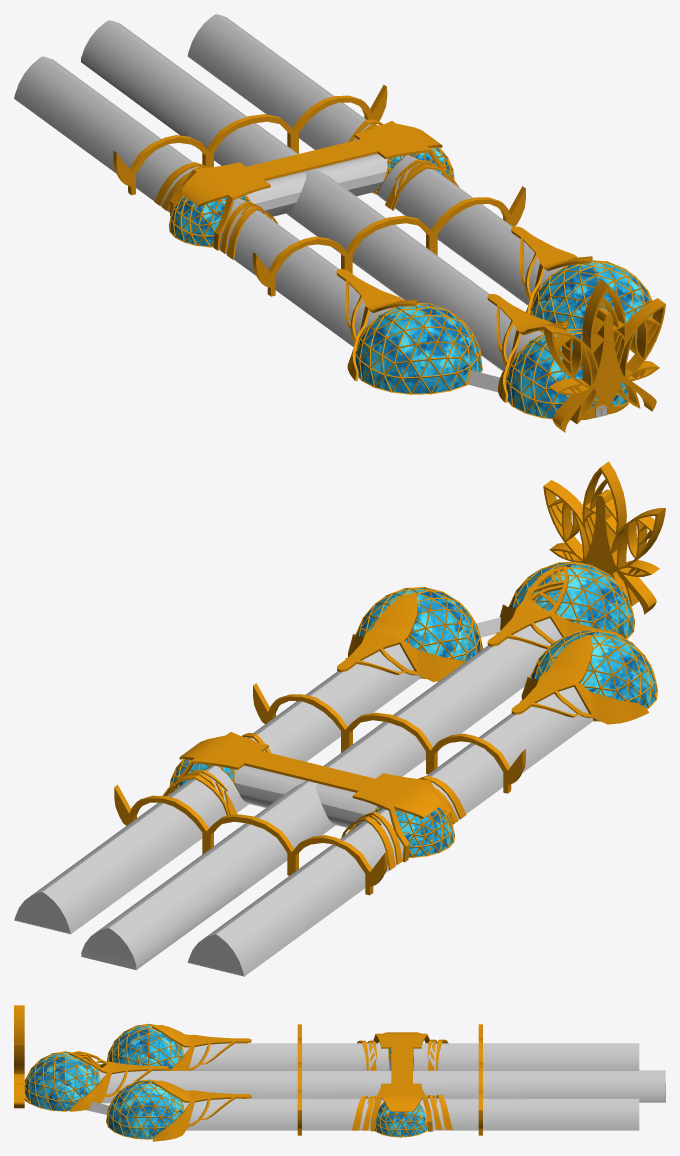
Rendered from SM_Greenhouse2.fbx.
The picture shows the model from 3 angles, top to bottom: view 1: azimuth 30°, elevation 25°; view 2: azimuth 150°, elevation 25°; view 3: azimuth 270°, elevation 25°; orthographic projection. The views are drawn at different scales.
Visible parts, largest first — view 1: SM_GreenHouseGold_LOD0, SM_GreenHouseSphereL_LOD0, SM_GreenHousePasC08_LOD0, SM_GreenHousePasC04_LOD0, SM_GreenHousePasL08_LOD0, SM_GreenHousePasR08_LOD0, SM_GreenHousePasR04_LOD0, SM_GreenHousePasR02_LOD0, SM_GreenHouseSphereR_LOD0, SM_GreenHousePasL02_LOD0, SM_GreenHousePasC06_LOD0, SM_GreenHousePasR06_LOD0 (+10 smaller); view 2: SM_GreenHouseGold_LOD0, SM_GreenHousePasC08_LOD0, SM_GreenHousePasR08_LOD0, SM_GreenHousePasL08_LOD0, SM_GreenHousePasC06_LOD0, SM_GreenHousePasC04_LOD0, SM_GreenHousePasR06_LOD0, SM_GreenHousePasR02_LOD0, SM_GreenHousePasL02_LOD0, SM_GreenHouseSphereC_LOD0, SM_GreenHouseSphereL_LOD0, SM_GreenHousePasL06_LOD0 (+11 smaller); view 3: SM_GreenHouseGold_LOD0, SM_GreenHousePasC07_LOD0, SM_GreenHousePasR07_LOD0, SM_GreenHousePasC03_LOD0, SM_GreenHousePasL07_LOD0, SM_GreenHousePasR01_LOD0, SM_GreenHouseSphereC_LOD0, SM_GreenHousePasC05_LOD0, SM_GreenHousePasL05_LOD0, SM_GreenHouseSphereR_LOD0, SM_GreenHousePasR05_LOD0, SM_GreenHousePasL03_LOD0 (+7 smaller).
Boxes of the visible parts, x1,y1,x2,y2 form: SM_GreenHouseGold_LOD0: (113,85,665,432); SM_GreenHouseSphereL_LOD0: (355,304,481,393); SM_GreenHousePasC08_LOD0: (81,20,214,136); SM_GreenHousePasC04_LOD0: (286,169,429,297); SM_GreenHousePasL08_LOD0: (14,56,127,161); SM_GreenHousePasR08_LOD0: (187,14,301,115); SM_GreenHousePasR04_LOD0: (376,155,487,255); SM_GreenHousePasR02_LOD0: (460,213,562,305); SM_GreenHouseSphereR_LOD0: (531,261,652,343); SM_GreenHousePasL02_LOD0: (286,256,388,346); SM_GreenHousePasC06_LOD0: (187,98,306,172); SM_GreenHousePasR06_LOD0: (274,77,368,149); SM_GreenHouseGold_LOD0: (114,461,665,895); SM_GreenHousePasC08_LOD0: (109,850,243,969); SM_GreenHousePasR08_LOD0: (43,829,156,933); SM_GreenHousePasL08_LOD0: (216,871,330,976); SM_GreenHousePasC06_LOD0: (215,781,335,892); SM_GreenHousePasC04_LOD0: (316,693,458,783); SM_GreenHousePasR06_LOD0: (129,766,248,871); SM_GreenHousePasR02_LOD0: (315,644,419,726); SM_GreenHousePasL02_LOD0: (489,687,592,772); SM_GreenHouseSphereC_LOD0: (510,563,634,638); SM_GreenHouseSphereL_LOD0: (531,631,656,720); SM_GreenHousePasL06_LOD0: (302,810,403,913); SM_GreenHouseGold_LOD0: (14,1005,482,1141); SM_GreenHousePasC07_LOD0: (527,1071,665,1102); SM_GreenHousePasR07_LOD0: (527,1098,639,1130); SM_GreenHousePasC03_LOD0: (247,1071,391,1098); SM_GreenHousePasL07_LOD0: (527,1043,639,1070); SM_GreenHousePasR01_LOD0: (182,1098,283,1130); SM_GreenHouseSphereC_LOD0: (25,1052,99,1110); SM_GreenHousePasC05_LOD0: (413,1071,526,1098); SM_GreenHousePasL05_LOD0: (413,1043,526,1070); SM_GreenHouseSphereR_LOD0: (106,1081,182,1138); SM_GreenHousePasR05_LOD0: (419,1098,526,1130); SM_GreenHousePasL03_LOD0: (284,1043,389,1070).
Size of the model in its own units: 62.85 by 28.84 by 185.
